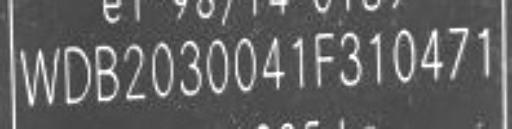letter: (15, 46, 61, 107), (90, 41, 122, 102), (230, 35, 260, 94), (202, 38, 232, 97), (260, 36, 292, 91), (62, 43, 90, 104), (444, 20, 472, 79), (310, 30, 338, 89), (150, 41, 178, 100), (121, 43, 149, 102), (338, 28, 364, 87), (178, 38, 204, 97), (472, 15, 496, 78), (390, 28, 418, 81), (418, 26, 444, 79), (366, 28, 390, 83), (289, 36, 309, 89)
